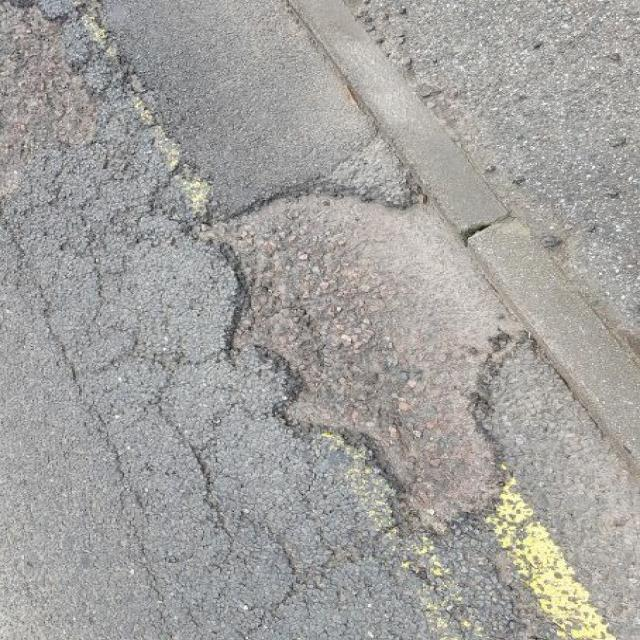pothole: (170, 172, 526, 546)
